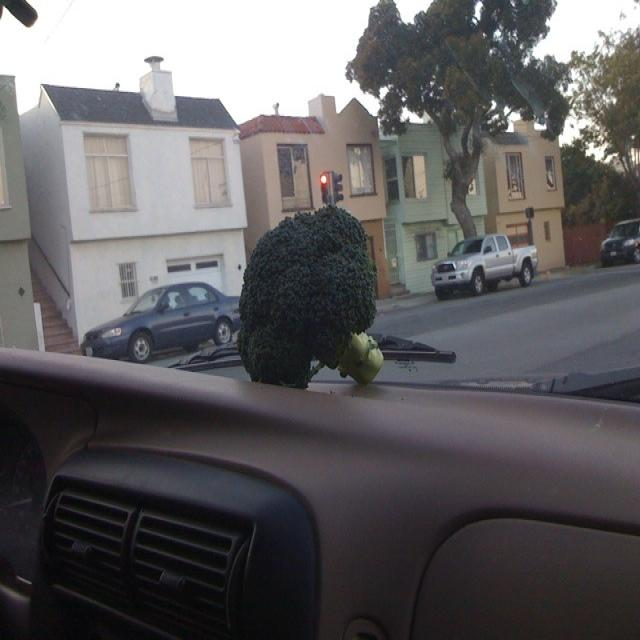Vehicle: (77, 280, 246, 366), (429, 233, 539, 301), (600, 217, 639, 265)
